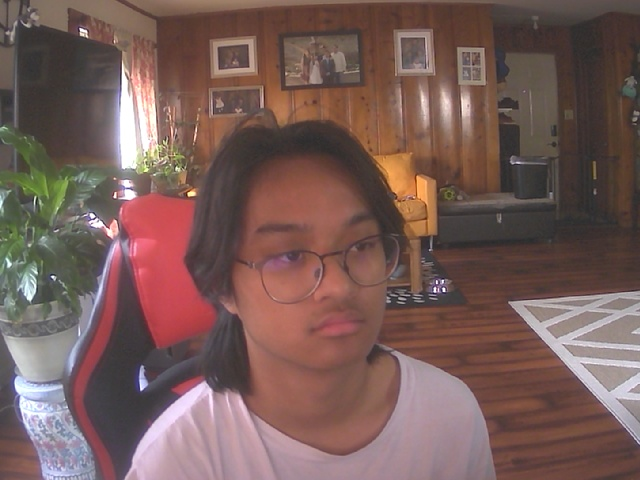neutral: (212, 118, 412, 379)
